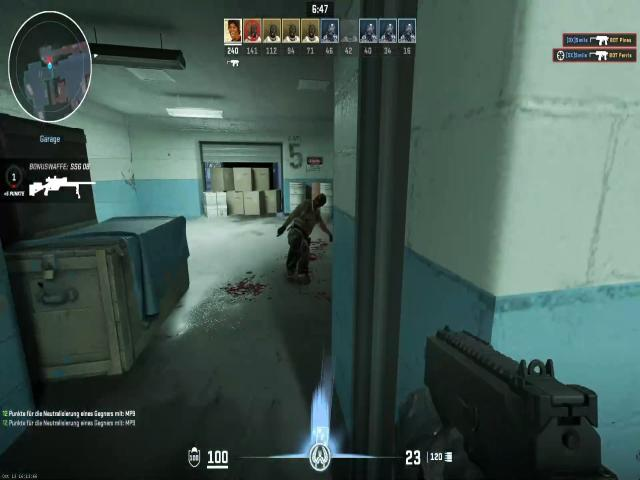Dead: (270, 188, 332, 254)
